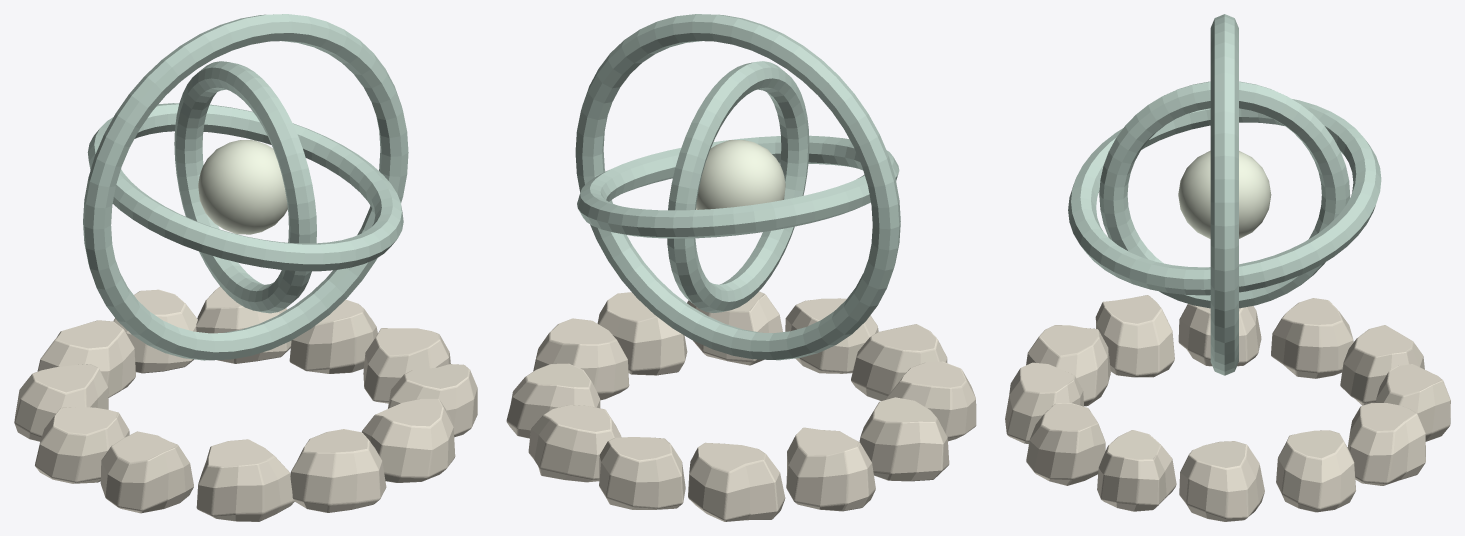
The model's file is Test_CheonRef_JadeRings.fbx.
3 views of the same model, side by side, from view 1: azimuth 30°, elevation 25°; view 2: azimuth 150°, elevation 25°; view 3: azimuth 270°, elevation 25° (orthographic). The views are drawn at different scales.
Parts seen in each view (by area): view 1: IndependentJadeRing_0, IndependentJadeRing_1, IndependentJadeRing_2, JadeCenterOrb, LowJadeRingFoundation.009, LowJadeRingFoundation.008, LowJadeRingFoundation.007, LowJadeRingFoundation.010, LowJadeRingFoundation.006, LowJadeRingFoundation.005, LowJadeRingFoundation.001, LowJadeRingFoundation.004 (+4 smaller); view 2: IndependentJadeRing_0, IndependentJadeRing_2, IndependentJadeRing_1, LowJadeRingFoundation.004, LowJadeRingFoundation.005, LowJadeRingFoundation.006, LowJadeRingFoundation.003, LowJadeRingFoundation.002, JadeCenterOrb, LowJadeRingFoundation.011, LowJadeRingFoundation, LowJadeRingFoundation.008 (+4 smaller); view 3: IndependentJadeRing_1, IndependentJadeRing_2, IndependentJadeRing_0, LowJadeRingFoundation, LowJadeRingFoundation.001, LowJadeRingFoundation.002, LowJadeRingFoundation.007, LowJadeRingFoundation.010, LowJadeRingFoundation.005, LowJadeRingFoundation.011, JadeCenterOrb, LowJadeRingFoundation.008 (+4 smaller).
Boxes of the visible parts, bbox=[...] form: IndependentJadeRing_0: bbox=[83, 14, 408, 360]; IndependentJadeRing_1: bbox=[87, 103, 403, 271]; IndependentJadeRing_2: bbox=[174, 61, 316, 313]; JadeCenterOrb: bbox=[198, 140, 287, 234]; LowJadeRingFoundation.009: bbox=[290, 429, 386, 512]; LowJadeRingFoundation.008: bbox=[196, 439, 294, 521]; LowJadeRingFoundation.007: bbox=[100, 431, 193, 513]; LowJadeRingFoundation.010: bbox=[362, 398, 455, 482]; LowJadeRingFoundation.006: bbox=[35, 407, 129, 483]; LowJadeRingFoundation.005: bbox=[14, 364, 108, 441]; LowJadeRingFoundation.001: bbox=[289, 299, 377, 373]; LowJadeRingFoundation.004: bbox=[37, 320, 135, 397]; IndependentJadeRing_0: bbox=[575, 14, 900, 360]; IndependentJadeRing_2: bbox=[667, 61, 809, 312]; IndependentJadeRing_1: bbox=[577, 135, 899, 238]; LowJadeRingFoundation.004: bbox=[688, 442, 785, 521]; LowJadeRingFoundation.005: bbox=[786, 427, 875, 511]; LowJadeRingFoundation.006: bbox=[859, 397, 949, 481]; LowJadeRingFoundation.003: bbox=[599, 437, 685, 509]; LowJadeRingFoundation.002: bbox=[528, 405, 621, 482]; JadeCenterOrb: bbox=[696, 140, 785, 209]; LowJadeRingFoundation.011: bbox=[597, 292, 687, 375]; LowJadeRingFoundation: bbox=[533, 318, 629, 400]; LowJadeRingFoundation.008: bbox=[851, 324, 947, 400]; IndependentJadeRing_1: bbox=[1068, 99, 1381, 295]; IndependentJadeRing_2: bbox=[1099, 81, 1350, 308]; IndependentJadeRing_0: bbox=[1210, 14, 1238, 375]; LowJadeRingFoundation: bbox=[1179, 441, 1264, 521]; LowJadeRingFoundation.001: bbox=[1276, 430, 1355, 512]; LowJadeRingFoundation.002: bbox=[1347, 403, 1425, 485]; LowJadeRingFoundation.007: bbox=[1095, 295, 1174, 377]; LowJadeRingFoundation.010: bbox=[1026, 403, 1105, 485]; LowJadeRingFoundation.005: bbox=[1271, 298, 1353, 378]; LowJadeRingFoundation.011: bbox=[1097, 430, 1176, 511]; JadeCenterOrb: bbox=[1178, 150, 1271, 238]; LowJadeRingFoundation.008: bbox=[1026, 325, 1110, 406].
Size of the model in its own units: 454 by 434 by 441.
